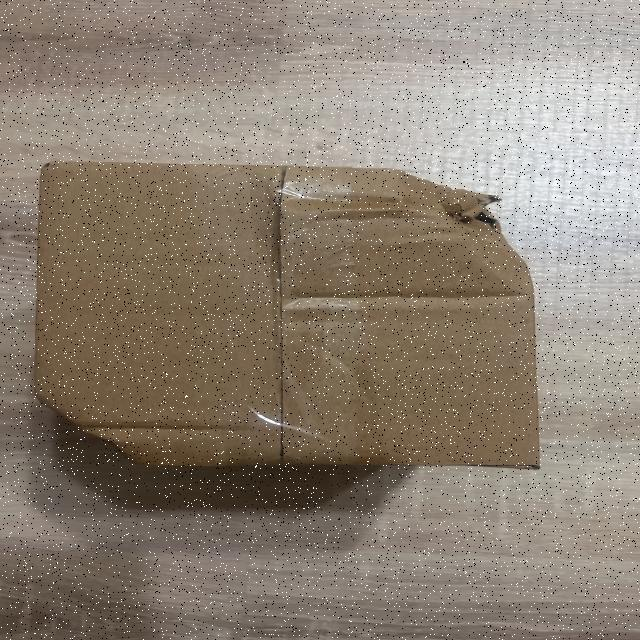damaged: (31, 149, 551, 481), (384, 158, 538, 266), (14, 374, 173, 474)
